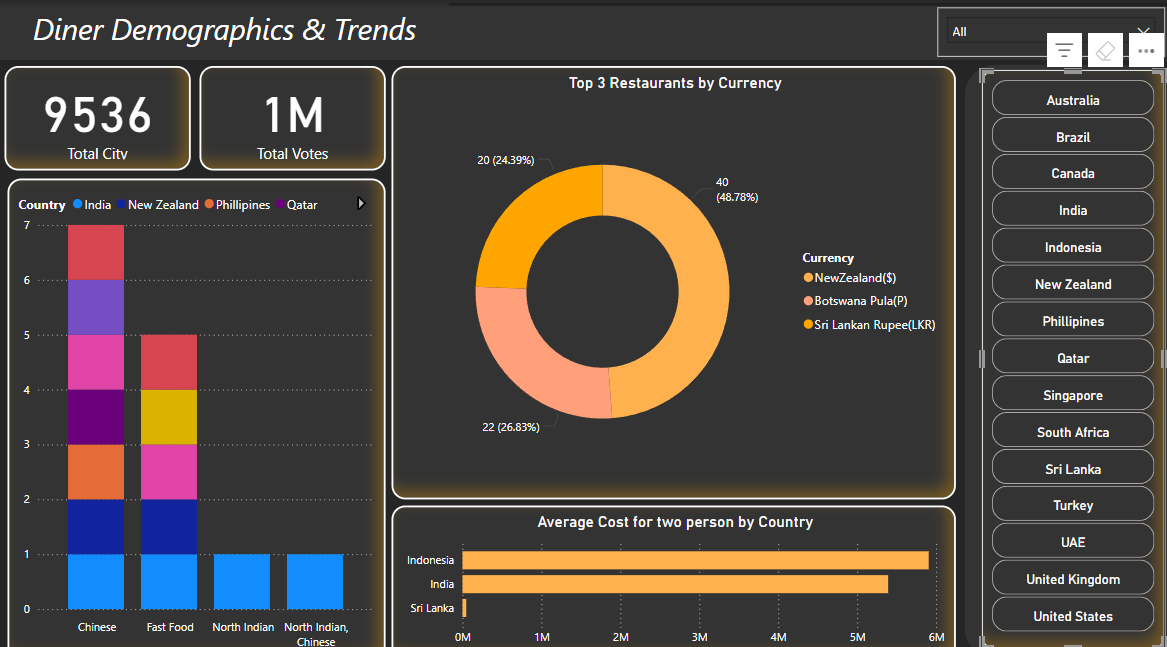

This screenshot's page, from the dashboard's own definition file:
{"tool":"powerbi","page":{"name":"Page 1","canvas":[1280,720],"ordinal":0},"visuals":[{"type":"textbox","box":[0,3.3,1280,58.3],"z":0},{"type":"slicer","fields":{"Values":["zomato.Rating text"]},"box":[1016.7,5,246.7,53.3],"z":1000},{"type":"textbox","box":[0,0,486.7,58.3],"z":2000},{"type":"clusteredBarChart","title":"Average Cost for two person by Country","fields":{"Category":["Sheet1.Country"],"Y":["Sum(zomato.Average Cost for two)"]},"box":[425,545,611.7,168.3],"z":3000},{"type":"donutChart","title":"Top 3 Restaurants by Currency","fields":{"Y":["CountNonNull(zomato.Restaurant Name)"],"Category":["zomato.Currency"]},"box":[425,68.3,611.7,470],"z":4000},{"type":"card","fields":{"Values":["zomato.Total City"]},"box":[5,68.3,201.7,113.3],"z":5000},{"type":"card","fields":{"Values":["zomato.Total Votes"]},"box":[216.7,68.3,201.7,113.3],"z":6000},{"type":"shape","box":[1046.7,66.7,226.7,645],"z":6250},{"type":"advancedSlicerVisual","fields":{"Values":["Sheet1.Country"]},"box":[1063.3,71.7,200,630],"z":6500},{"type":"lineStackedColumnComboChart","fields":{"Category":["zomato.Cuisines"],"Y":["CountNonNull(Sheet1.Country)"],"Series":["Sheet1.Country"]},"box":[8.3,190,410,525],"z":7000}]}

Visuals, with their boxes in screenshot pixels (x1, y1, x2, y2):
textbox: <region>0, 3, 1166, 57</region>
slicer - zomato.Rating text: <region>932, 5, 1158, 54</region>
textbox: <region>0, 0, 444, 54</region>
"Average Cost for two person by Country" clusteredBarChart: <region>388, 501, 950, 646</region>
"Top 3 Restaurants by Currency" donutChart: <region>388, 63, 950, 495</region>
card - zomato.Total City: <region>2, 63, 187, 167</region>
card - zomato.Total Votes: <region>196, 63, 382, 167</region>
shape: <region>959, 61, 1166, 646</region>
advancedSlicerVisual - Sheet1.Country: <region>974, 66, 1158, 645</region>
lineStackedColumnComboChart - zomato.Cuisines x CountNonNull(Sheet1.Country): <region>5, 175, 381, 646</region>
